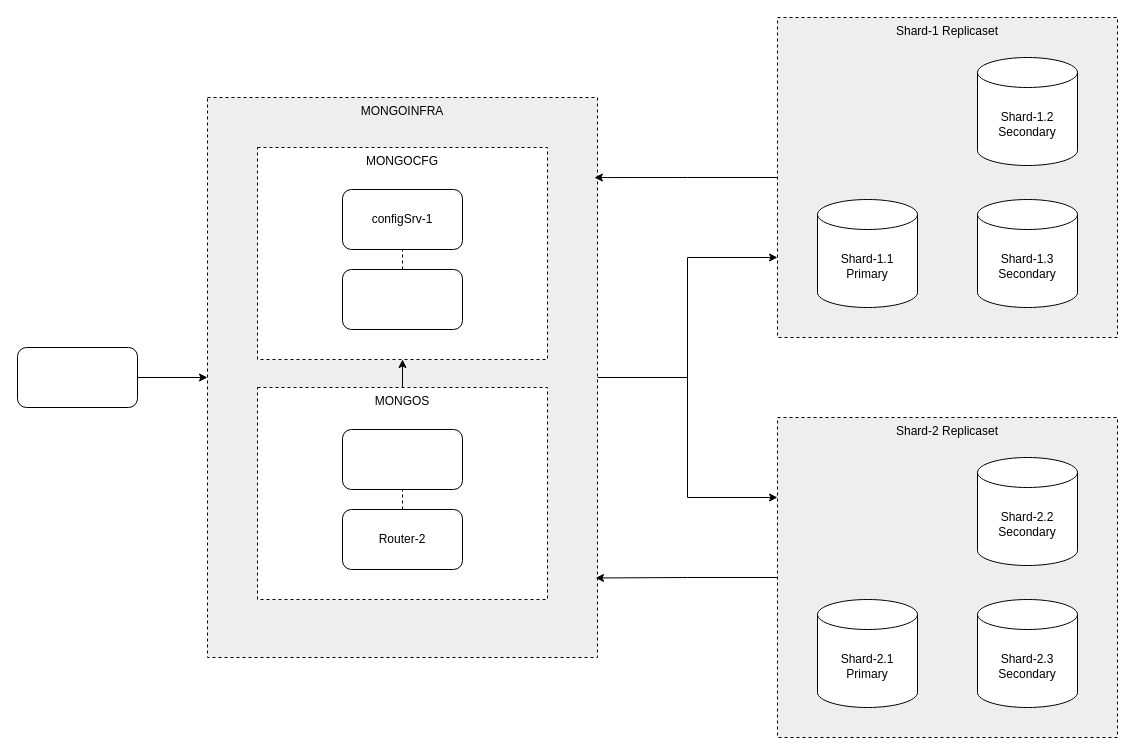
The diagram is 1135 pixels wide and 755 high, and some of its shapes have lost their labels. The centre of each missing label's shape, as x and y in pixels:
configSrv-2: the point at 402,299
pymongo-api: the point at 77,377
Router-1: the point at 402,459
